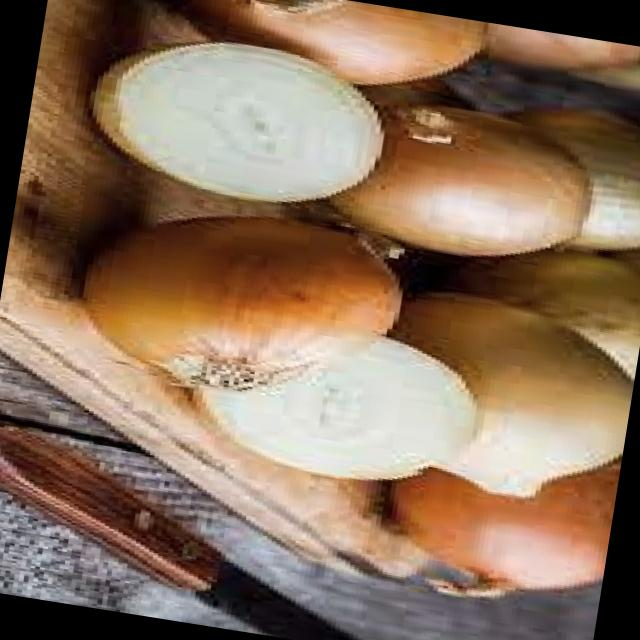Onion: (41, 178, 422, 446), (154, 300, 514, 516), (78, 9, 420, 227), (371, 270, 640, 520), (328, 85, 622, 288), (374, 412, 624, 631), (133, 0, 488, 117)
